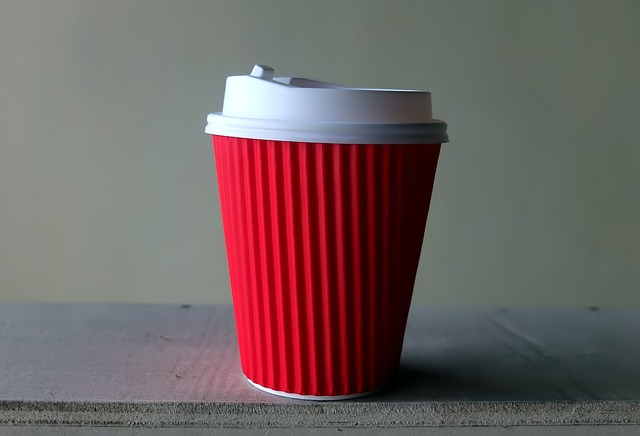cup: (192, 57, 456, 406)
